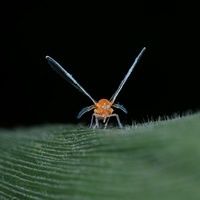insect: (45, 47, 145, 128)
